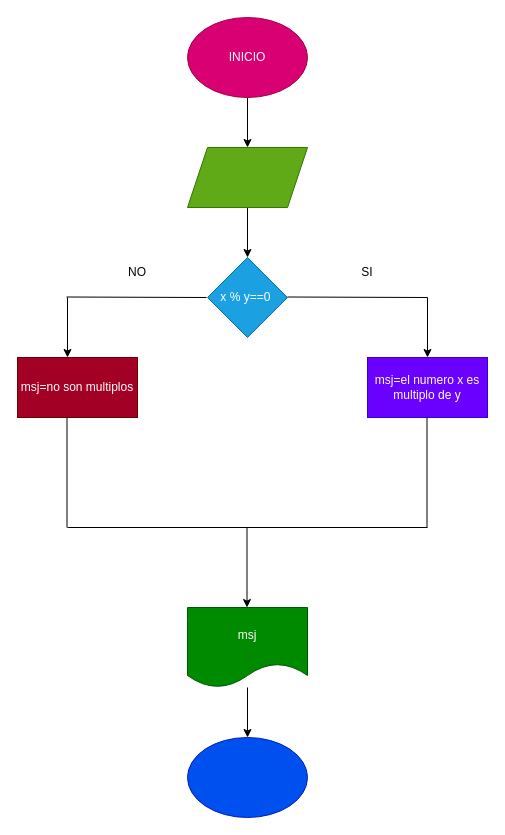
The diagram is 505 pixels wide and 835 high, and some of its shapes have lost their labels. The shapes that lost their labels are listed below. From the top down, each one's centre as x and y in pixels, then its label:
the point at 247,177: x,y
the point at 247,777: FIN
